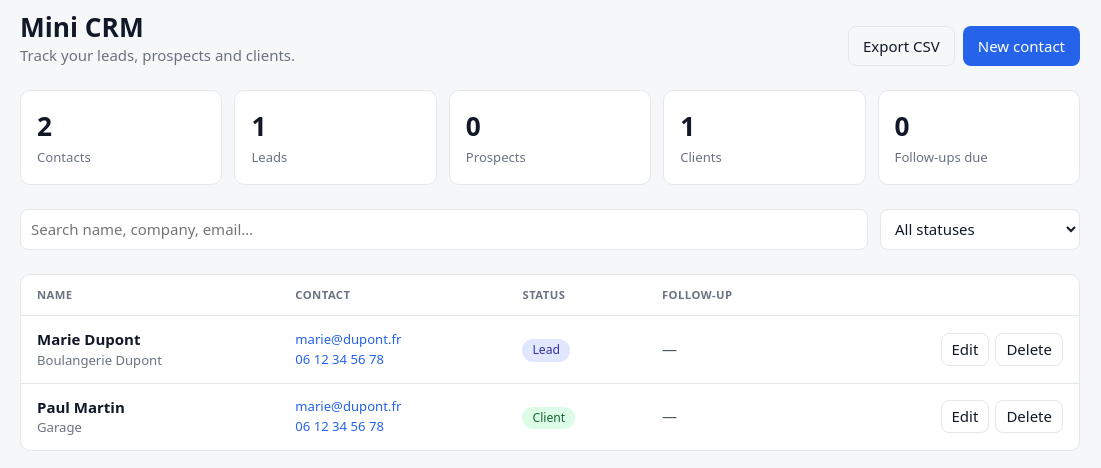
Test: App › filters by search and status
Type "garage" into the search field named "Search contacts". click: [444, 229]
box: 20,209 -> 868,250
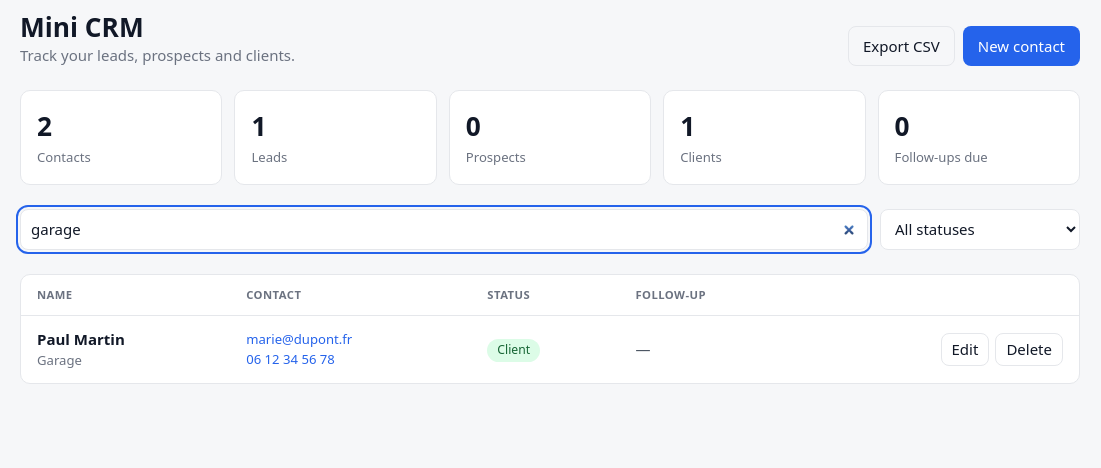
Check: the text "Paul Martin" is shown, box 37,329 -> 125,349
Check: the text "Marie Dupont" is gone
Clear the search field named "Search contacts". click: [444, 229]
box: 20,209 -> 868,250
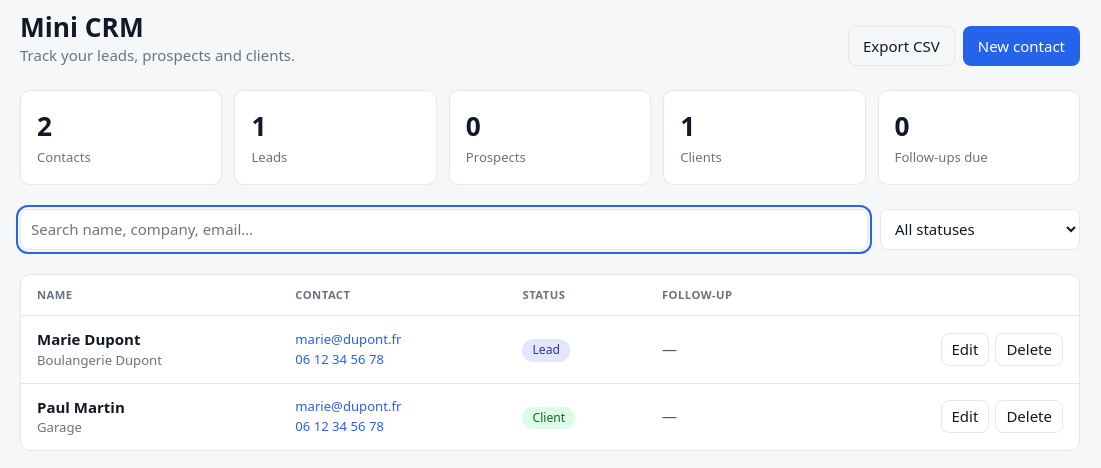
Select "Lead" in the dropdown named "Filter by status". click: [980, 229]
box: 880,209 -> 1080,250
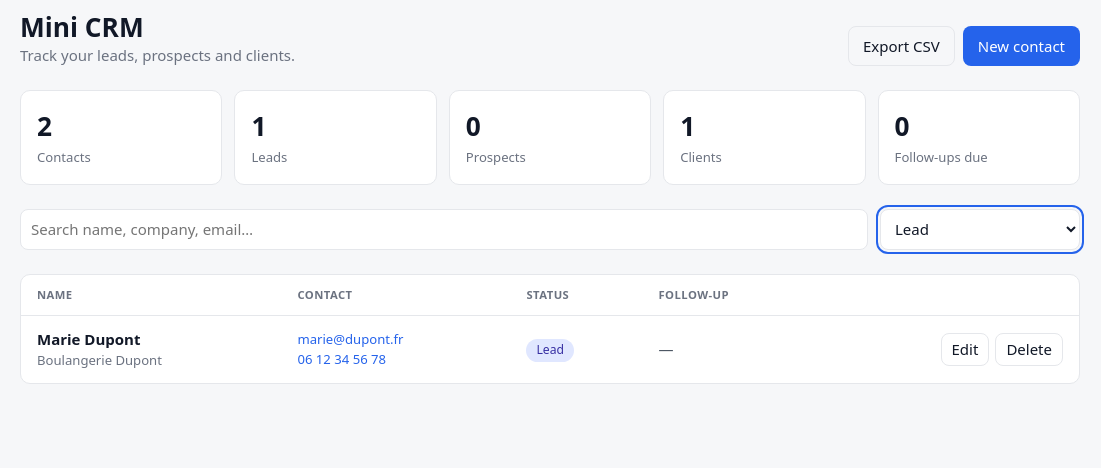
Check: the text "Marie Dupont" is shown, box 37,329 -> 140,349
Check: the text "Paul Martin" is gone
